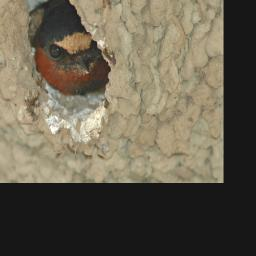Swallow: (33, 0, 111, 96)
